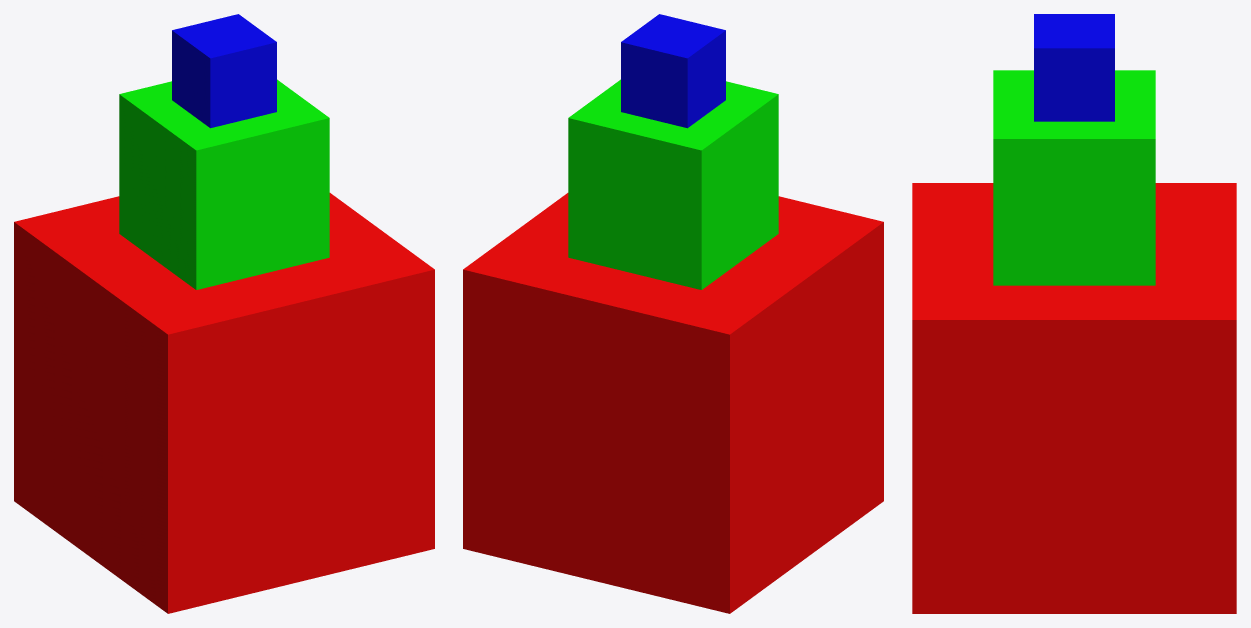
Rendered from TestScene.glb.
3 renders of one model, left to right at view 1: azimuth 30°, elevation 25°; view 2: azimuth 150°, elevation 25°; view 3: azimuth 270°, elevation 25°, orthographic. The views are drawn at different scales.
Parts seen in each view (by area): view 1: Red Cube, Green Cube, Blue Cube; view 2: Red Cube, Green Cube, Blue Cube; view 3: Red Cube, Green Cube, Blue Cube.
Boxes of the visible parts, left/top/right/bottom form: Red Cube: left=14, top=193, right=434, bottom=613; Green Cube: left=119, top=79, right=329, bottom=289; Blue Cube: left=172, top=14, right=276, bottom=128; Red Cube: left=463, top=193, right=883, bottom=613; Green Cube: left=568, top=79, right=778, bottom=289; Blue Cube: left=621, top=14, right=725, bottom=128; Red Cube: left=912, top=183, right=1236, bottom=613; Green Cube: left=993, top=70, right=1155, bottom=285; Blue Cube: left=1034, top=14, right=1114, bottom=121.
Bounding box in the file's own units: 2 × 3.5 × 2.
